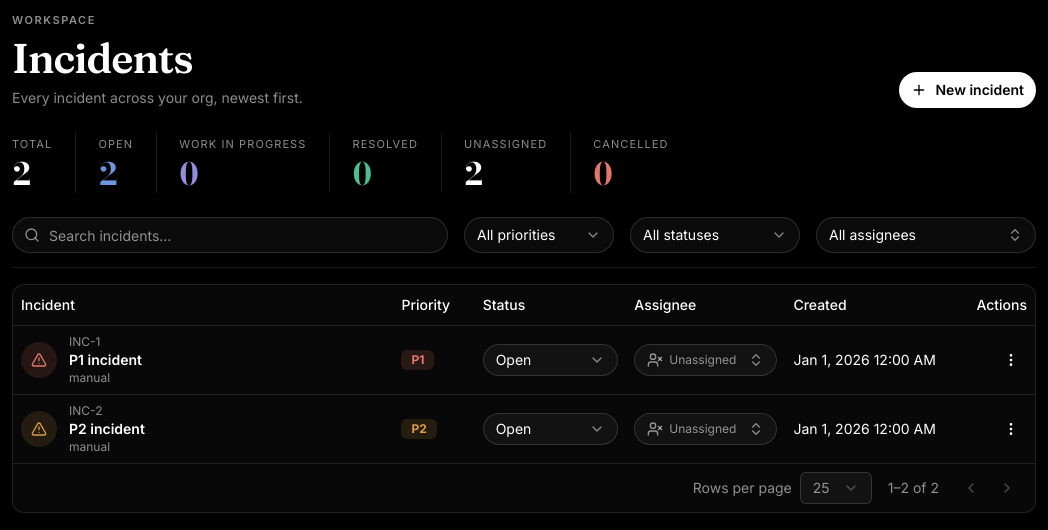
Test: IncidentsListPage — filters › filters by priority
Click the dropdown labelled "All priorities": (539,235) [464,217,614,253]
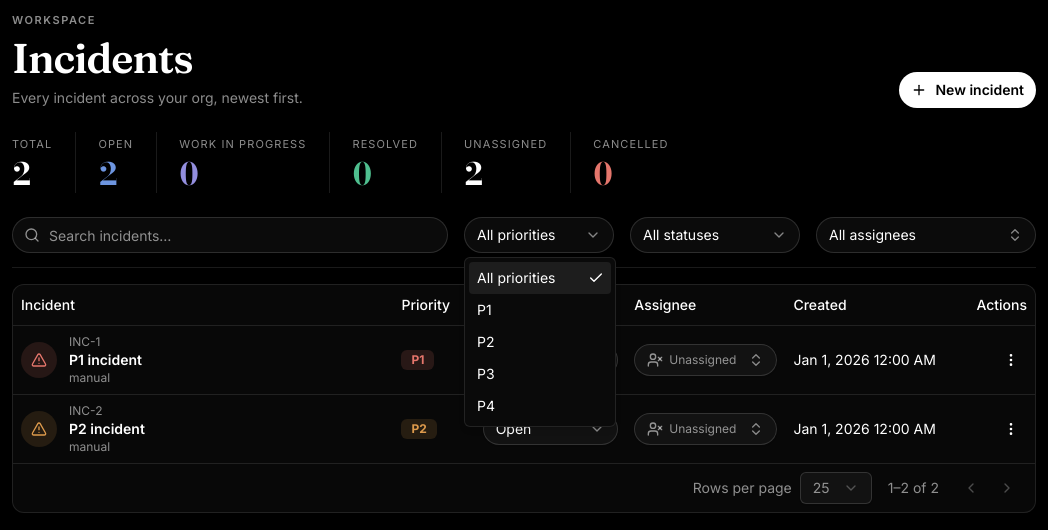
Click the option "P1": (484,310) [477,301,492,318]
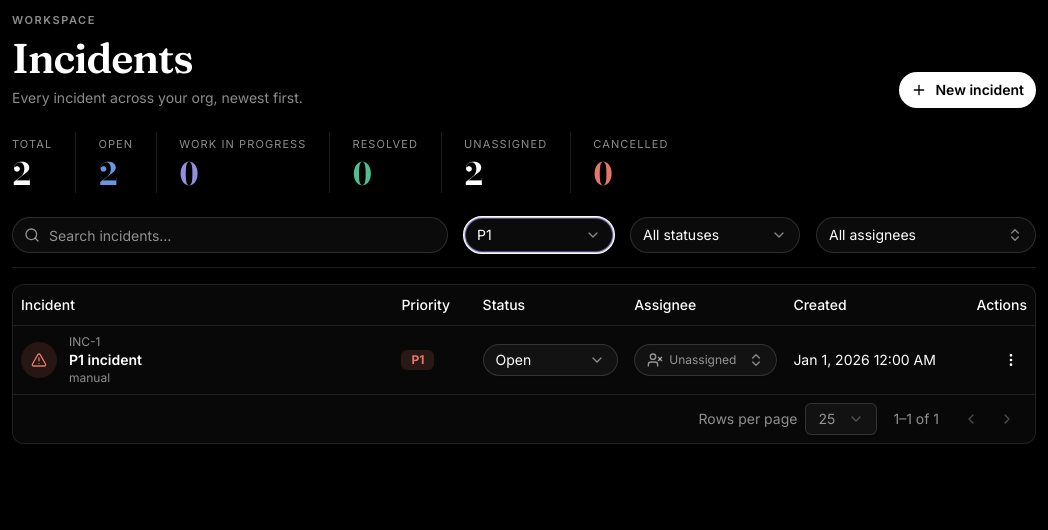
Expected: the text "P1 incident" is shown, [69,350,142,370]
Result: the text "P2 incident" is gone
